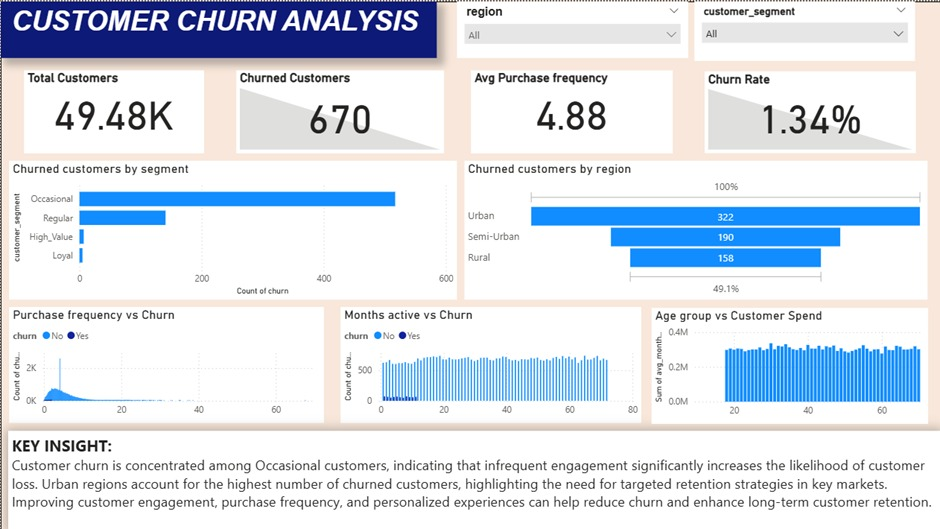

The dashboard page shown, as its layout file describes it:
{"tool":"powerbi","page":{"name":"Customer Churn Analysis","canvas":[1280,720],"ordinal":0},"visuals":[{"type":"textbox","box":[0,0,592.8,76.8],"z":0},{"type":"card","title":"Total Customers","fields":{"Values":["CountNonNull(churn column.customer_id)"]},"box":[32.1,93.6,244.9,112.8],"z":1000},{"type":"kpi","title":"Churned Customers","fields":{"Indicator":["CountNonNull(churn column.customer_id)"],"TrendLine":["churn column.churn"]},"box":[320.5,93.6,282.1,112.8],"z":2000},{"type":"card","title":"Avg Purchase frequency","fields":{"Values":["Avg(churn column.purchase_frequency)"]},"box":[639.7,93.6,274.4,112.8],"z":3000},{"type":"kpi","title":"Churn Rate","fields":{"TrendLine":["churn column.churn"],"Indicator":["Sum(churn column.customer_id)"]},"box":[956.4,94.9,287.2,111.5],"z":4000},{"type":"clusteredBarChart","title":"Churned customers by segment","fields":{"Y":["CountNonNull(churn column.churn)"],"Category":["churn column.customer_segment"]},"box":[11.5,216.7,609,188.5],"z":5000},{"type":"funnel","title":"Churned customers by region","fields":{"Category":["churn column.region"],"Y":["CountNonNull(churn column.churn)"]},"box":[630.8,216.7,629.5,188.5],"z":6000},{"type":"clusteredColumnChart","title":"Purchase frequency vs Churn","fields":{"Category":["churn column.purchase_frequency"],"Y":["CountNonNull(churn column.churn)"],"Series":["churn column.churn"]},"box":[11.5,415.4,428.2,157.7],"z":7000},{"type":"clusteredColumnChart","title":"Months active vs Churn","fields":{"Category":["churn column.months_active"],"Y":["CountNonNull(churn column.churn)"],"Series":["churn column.churn"]},"box":[461.5,415.4,409,157.7],"z":8000},{"type":"slicer","fields":{"Values":["churn column.region"]},"box":[620.5,0,314.1,76.9],"z":9000},{"type":"textbox","box":[10.3,583.3,1269.2,137.2],"z":10000},{"type":"slicer","fields":{"Values":["churn column.customer_segment"]},"box":[943.6,0,300,80.8],"z":11000},{"type":"clusteredColumnChart","title":"Age group vs Customer Spend","fields":{"Category":["churn column.age"],"Y":["Sum(churn column.avg_monthly_spend)"]},"box":[884.6,416.7,375.6,157.7],"z":12000}]}

Visuals, with their boxes in screenshot pixels (x1, y1, x2, y2), scaled from the page's 1280x720 canvas onto the 940x529 screenshot:
textbox: 0,0,435,56
"Total Customers" card: 24,69,203,152
"Churned Customers" kpi: 235,69,443,152
"Avg Purchase frequency" card: 470,69,671,152
"Churn Rate" kpi: 702,70,913,152
"Churned customers by segment" clusteredBarChart: 8,159,456,298
"Churned customers by region" funnel: 463,159,926,298
"Purchase frequency vs Churn" clusteredColumnChart: 8,305,323,421
"Months active vs Churn" clusteredColumnChart: 339,305,639,421
slicer - churn column.region: 456,0,686,57
textbox: 8,429,939,528
slicer - churn column.customer_segment: 693,0,913,59
"Age group vs Customer Spend" clusteredColumnChart: 650,306,925,422
